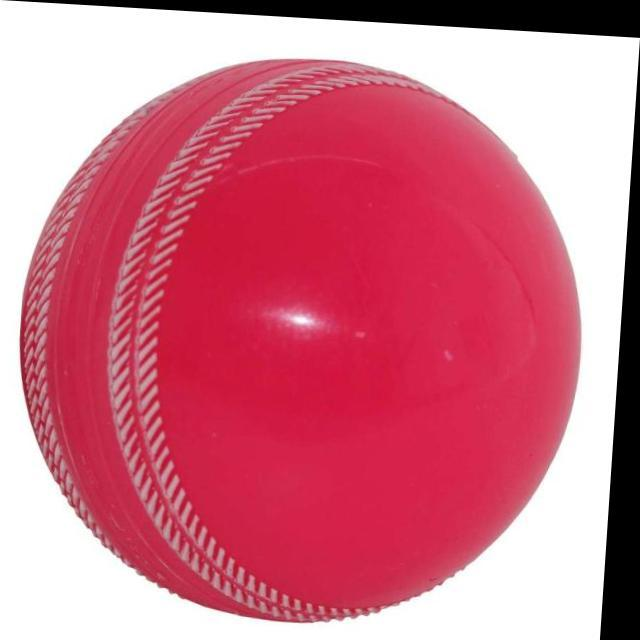cricket ball: (25, 55, 587, 619)
